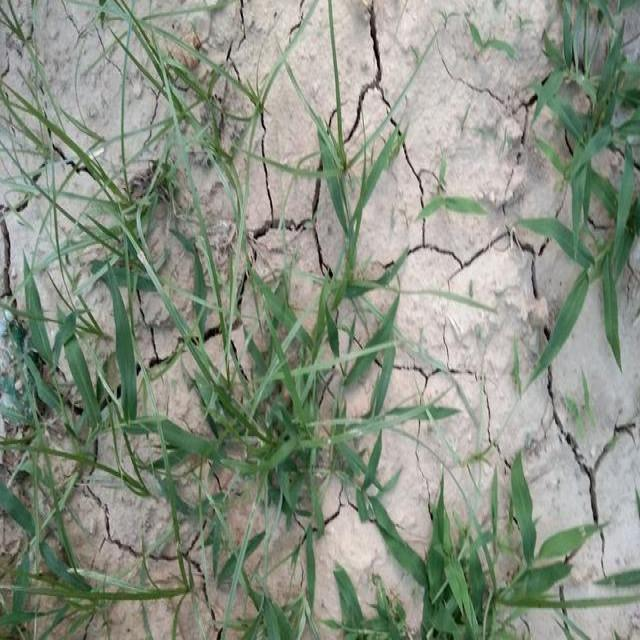weed: (7, 9, 270, 304), (0, 270, 201, 640), (156, 245, 402, 522), (515, 0, 640, 373), (288, 14, 406, 376), (366, 488, 631, 640), (174, 485, 387, 640)
